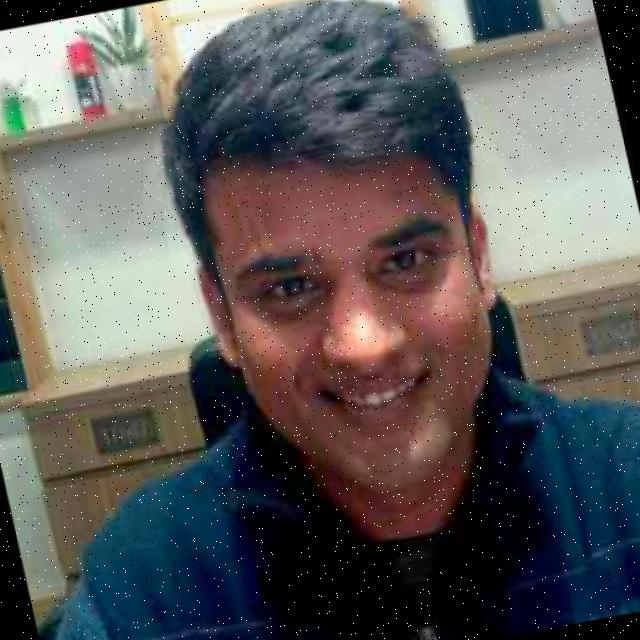puffy_eyes: (363, 263, 443, 291), (254, 292, 322, 322)
